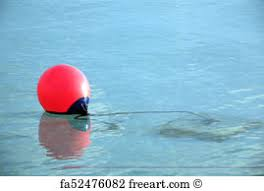buoy: (37, 65, 90, 114)
